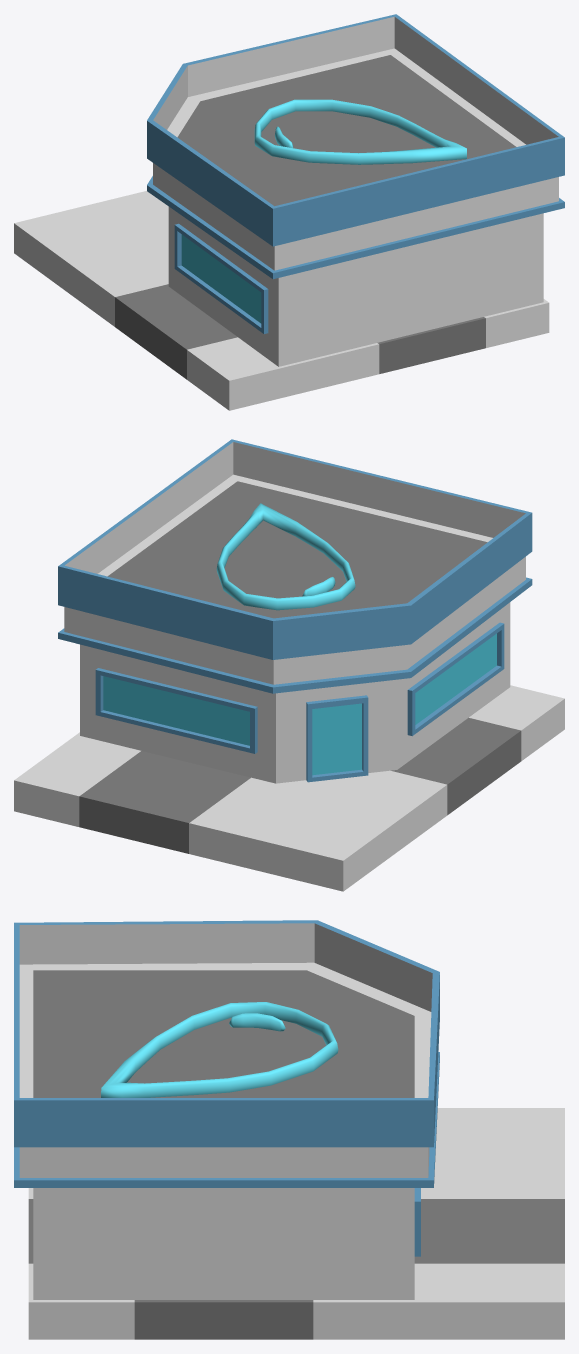
3 renders of one model, top to bottom at view 1: azimuth 30°, elevation 25°; view 2: azimuth 150°, elevation 25°; view 3: azimuth 270°, elevation 25°, orthographic. The views are drawn at different scales.
Visible parts, largest first — view 1: Cube.011; view 2: Cube.011; view 3: Cube.011.
Boxes of the visible parts, box(x1,y1,x2,y2) form: Cube.011: box(14, 14, 564, 410); Cube.011: box(14, 439, 564, 891); Cube.011: box(14, 920, 564, 1339).
Bounding box in the file's own units: 338 × 193 × 393.
